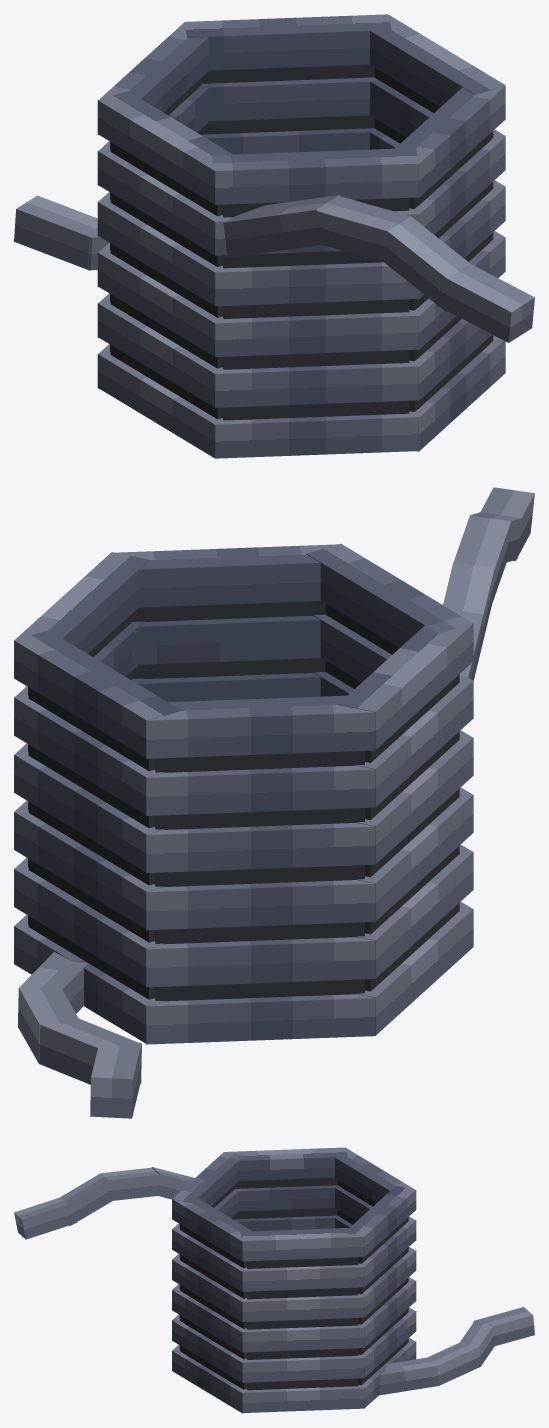
Rendered from icon_metalwiring.gltf.
The picture shows the model from 3 angles, top to bottom: view 1: azimuth 30°, elevation 25°; view 2: azimuth 150°, elevation 25°; view 3: azimuth 270°, elevation 25°; orthographic projection. The views are drawn at different scales.
Parts seen in each view (by area): view 1: A1-Local, A4-Local, A3-Local, A5-Local, A4$$(1)-Local, b3-Local, A41$$(1)-Local, A7-Local, bv1-Local, A42$$(1)-Local, A3$$(1)-Local; view 2: A3-Local, A1-Local, A4-Local, A3$$(1)-Local, A5-Local, A4$$(1)-Local, A6-Local, A7-Local, A41$$(1)-Local, A42$$(1)-Local, A42-Local, A41-Local (+1 smaller); view 3: A4-Local, A3-Local, A1-Local, A4$$(1)-Local, A3$$(1)-Local, A41-Local, A42$$(1)-Local, bv1-Local, A5-Local, b3-Local, A42-Local, A7-Local (+2 smaller).
Boxes of the visible parts, x1,y1,x2,y2 form: A1-Local: (184, 14, 419, 458); A4-Local: (97, 15, 505, 458); A3-Local: (97, 23, 505, 451); A5-Local: (202, 64, 409, 420); A4$$(1)-Local: (110, 68, 440, 419); b3-Local: (436, 264, 534, 342); A41$$(1)-Local: (223, 195, 340, 258); A7-Local: (14, 195, 97, 270); bv1-Local: (378, 216, 470, 311); A42$$(1)-Local: (317, 196, 410, 264); A3$$(1)-Local: (110, 77, 493, 411); A3-Local: (116, 544, 376, 1044); A1-Local: (14, 543, 473, 1043); A4-Local: (14, 552, 472, 1035); A3$$(1)-Local: (132, 601, 364, 1001); A5-Local: (28, 603, 399, 999); A4$$(1)-Local: (28, 614, 459, 991); A6-Local: (39, 1018, 141, 1084); A7-Local: (90, 1041, 141, 1118); A41$$(1)-Local: (443, 562, 494, 680); A42$$(1)-Local: (454, 515, 511, 602); A42-Local: (18, 986, 80, 1063); A41-Local: (18, 952, 87, 1027); A4-Local: (225, 1147, 364, 1412); A3-Local: (172, 1148, 416, 1413); A1-Local: (172, 1152, 416, 1408); A4$$(1)-Local: (235, 1177, 358, 1390); A3$$(1)-Local: (180, 1180, 376, 1389); A41-Local: (379, 1357, 439, 1395); A42$$(1)-Local: (101, 1167, 160, 1201); bv1-Local: (60, 1173, 113, 1225); A5-Local: (179, 1185, 408, 1385); b3-Local: (14, 1197, 76, 1239); A42-Local: (423, 1340, 480, 1385); A7-Local: (473, 1307, 534, 1345).
Bounding box in the file's own units: 19.91 × 17.19 × 46.69.
Materials: 14 (14 with a texture image).
